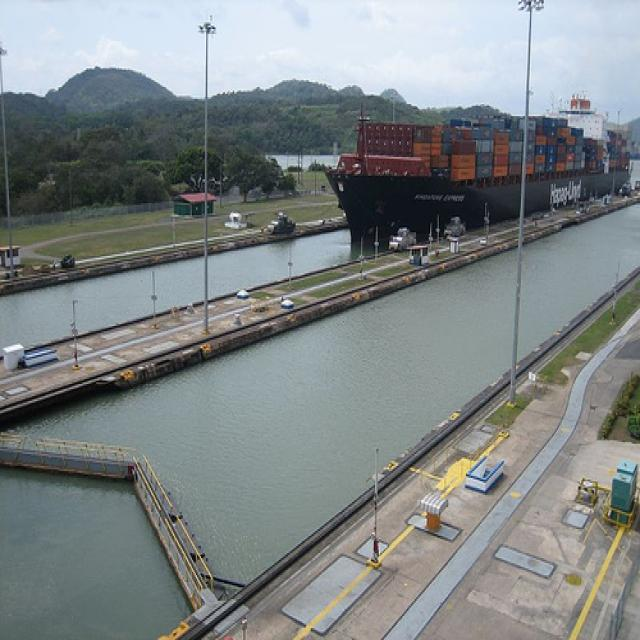boat: (328, 88, 634, 243)
